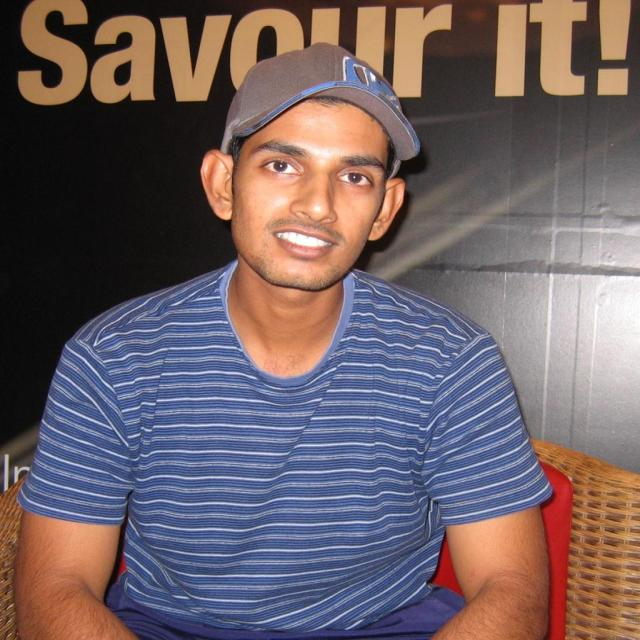Face: (217, 82, 420, 297)
